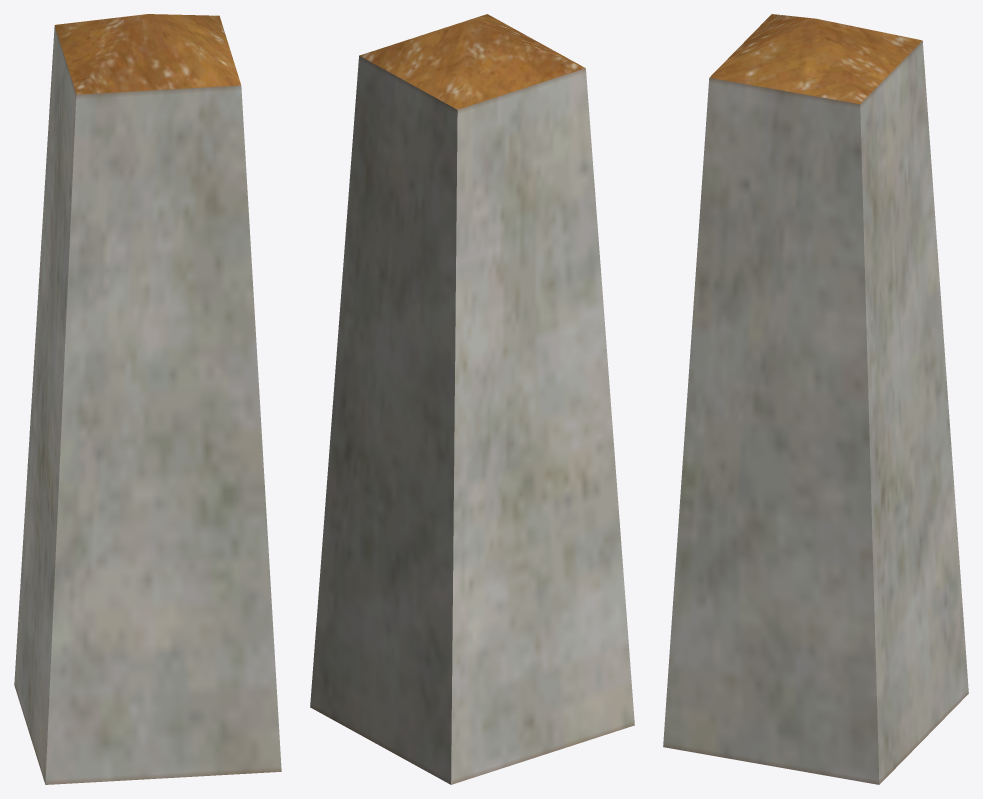
File: mun_all_military_column_med_rebl_s01_l2.fbx
3 renders of one model, left to right at view 1: azimuth 30°, elevation 25°; view 2: azimuth 150°, elevation 25°; view 3: azimuth 270°, elevation 25°, orthographic. The views are drawn at different scales.
Visible parts, largest first — view 1: mesh_node; view 2: mesh_node; view 3: mesh_node.
Part boxes in pixels (box(x1,y1,x2,y2)): mesh_node: box(14, 14, 281, 784); mesh_node: box(310, 14, 634, 784); mesh_node: box(663, 14, 968, 784).
Size of the model in its own units: 2.57 by 6.5 by 2.57.
Materials: 1 (1 with a texture image).
